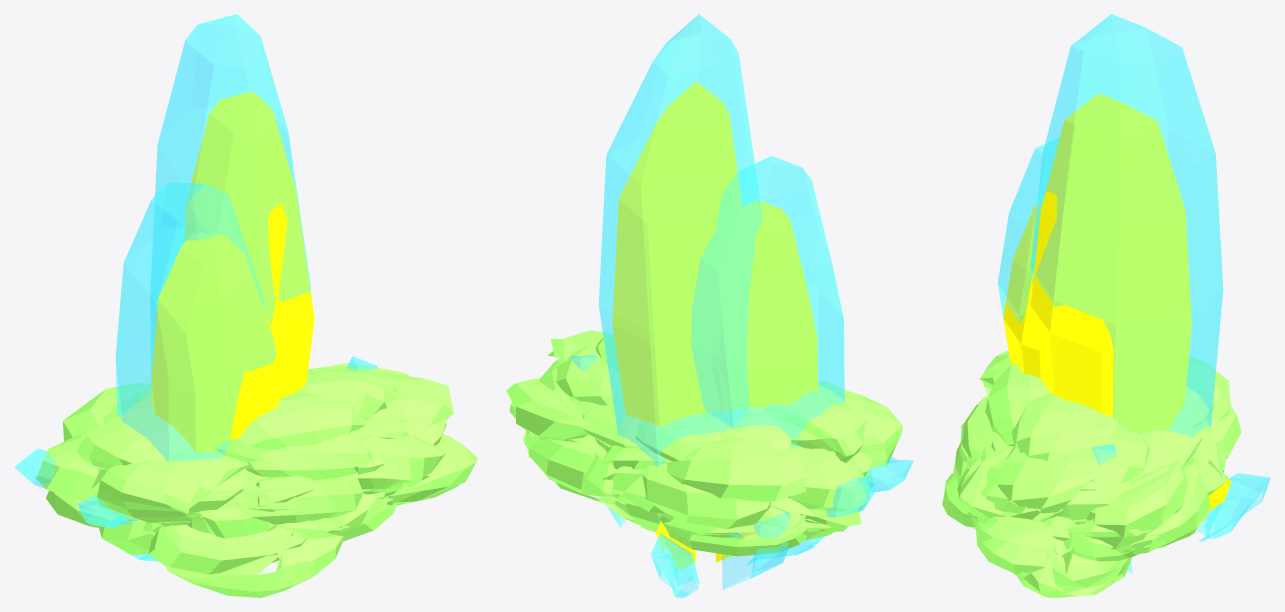
File: XRYSTAL7.gltf
The picture shows the model from 3 angles, left to right: view 1: azimuth 30°, elevation 25°; view 2: azimuth 150°, elevation 25°; view 3: azimuth 270°, elevation 25°; orthographic projection.
Parts seen in each view (by area): view 1: Cube.001, Circle.001, Circle; view 2: Circle.001, Circle, Cube.001; view 3: Circle.001, Circle, Cube.001.
Part boxes in pixels (x1,y1,x2,y2): Cube.001: (36,363,477,597); Circle.001: (14,14,377,561); Circle: (126,91,314,517); Circle.001: (570,14,913,597); Circle: (612,81,817,568); Cube.001: (506,330,902,556); Circle.001: (997,14,1270,574); Circle: (1003,93,1231,526); Cube.001: (942,350,1241,597).
Bounding box in the file's own units: 3.77 × 4.96 × 2.71.
